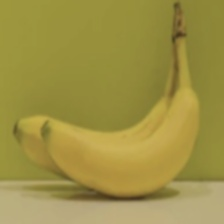banana: (15, 34, 164, 203)
